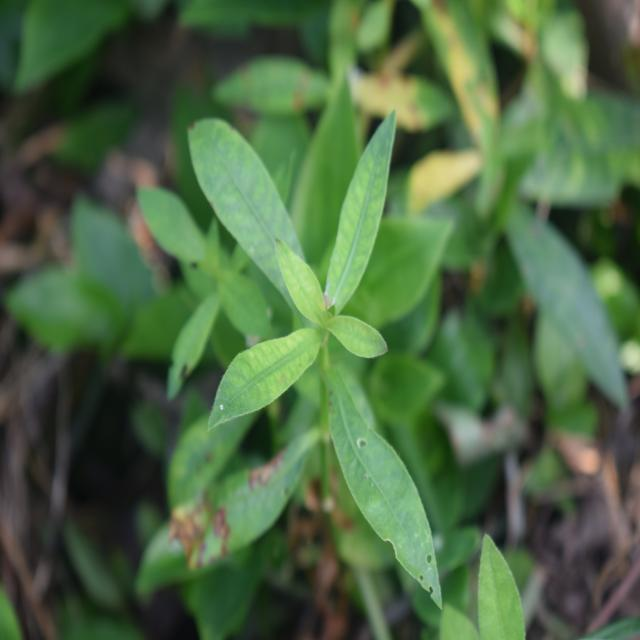Alligatorweed: (176, 85, 451, 586)
